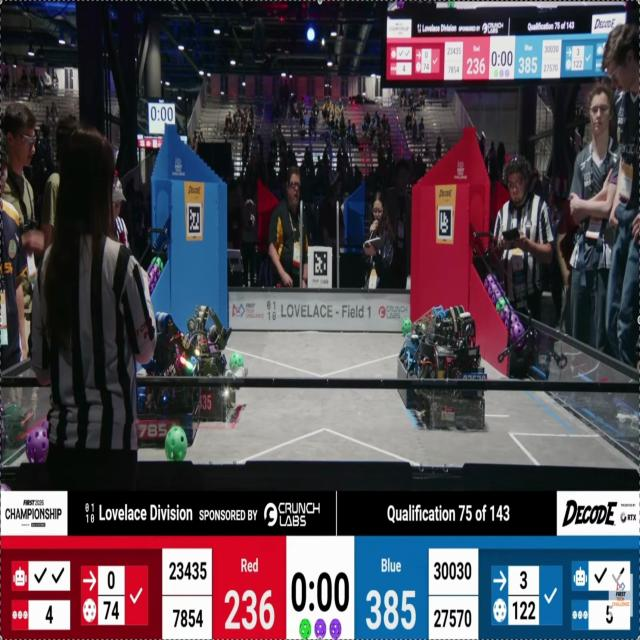artifact_green: (165, 426, 188, 461), (4, 404, 21, 420), (299, 619, 311, 639), (230, 352, 243, 369), (496, 297, 508, 314), (402, 318, 412, 336), (151, 257, 163, 271), (453, 306, 465, 316), (234, 367, 245, 377), (157, 258, 164, 271), (225, 369, 234, 377), (151, 258, 158, 266), (421, 323, 426, 332)
artifact_purple: (26, 426, 49, 463), (511, 320, 525, 346), (506, 308, 520, 328), (500, 304, 512, 324), (330, 619, 341, 639), (492, 282, 504, 300), (315, 619, 326, 638), (485, 274, 496, 291), (491, 288, 502, 305), (39, 419, 49, 437), (490, 281, 500, 294), (151, 268, 158, 282), (148, 266, 154, 280), (154, 266, 160, 279), (0, 484, 11, 491), (209, 344, 216, 354), (150, 278, 157, 288)
